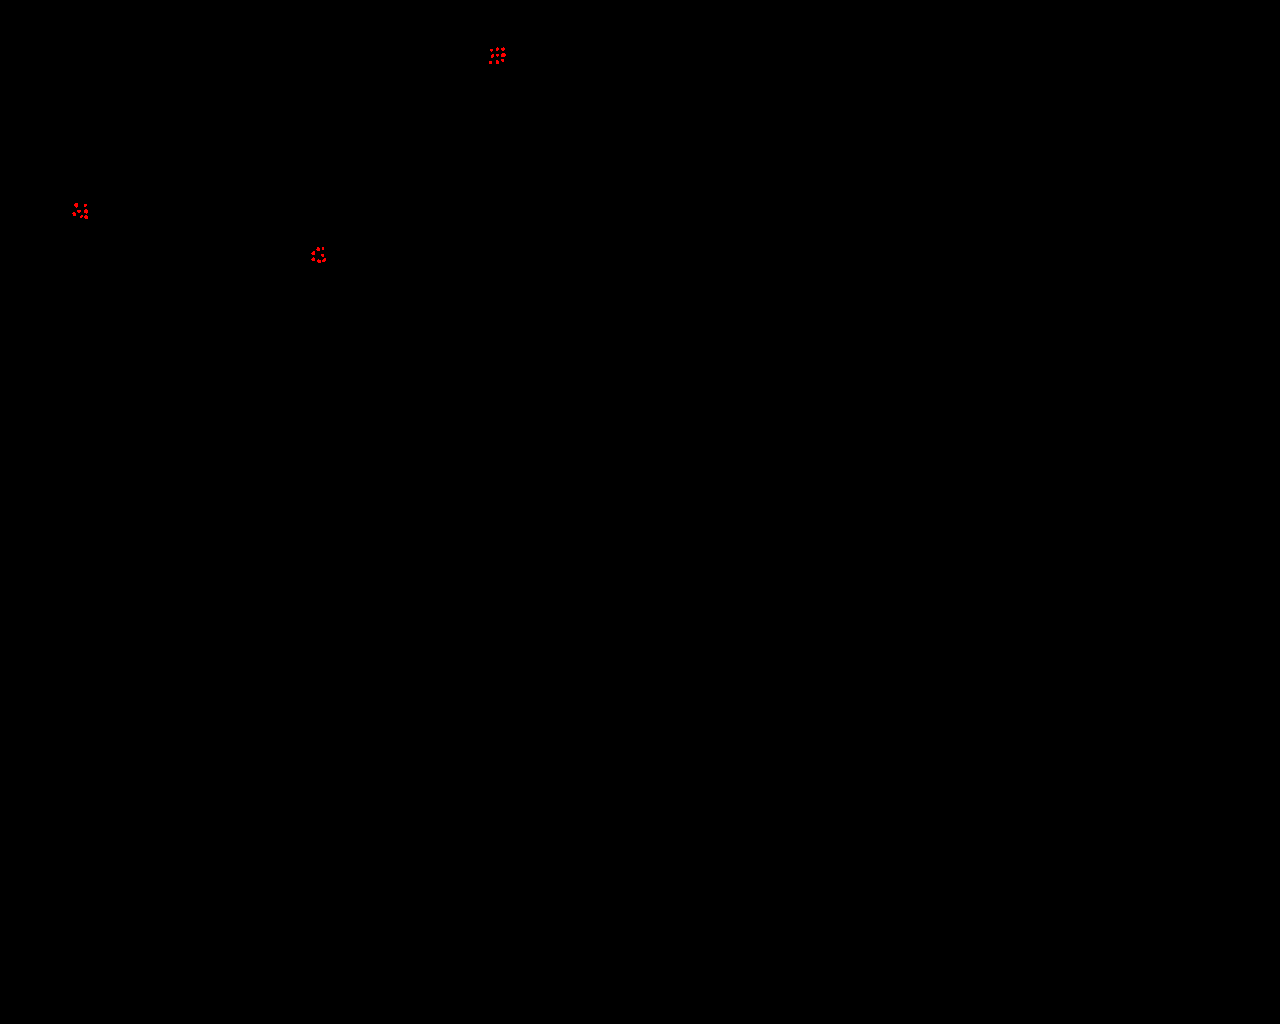Target: (501, 53, 506, 57), (74, 203, 78, 208), (84, 209, 88, 214), (501, 47, 505, 51), (72, 212, 76, 216), (84, 215, 88, 219), (316, 247, 320, 251), (322, 258, 326, 262), (317, 259, 321, 263), (496, 47, 499, 51), (491, 54, 494, 59), (496, 60, 499, 64), (77, 210, 82, 213), (311, 251, 315, 255), (311, 257, 315, 261), (490, 49, 493, 52), (496, 54, 499, 57), (501, 59, 504, 62), (489, 61, 492, 64), (84, 204, 87, 207), (321, 254, 324, 257), (80, 215, 83, 218), (322, 247, 324, 250)
